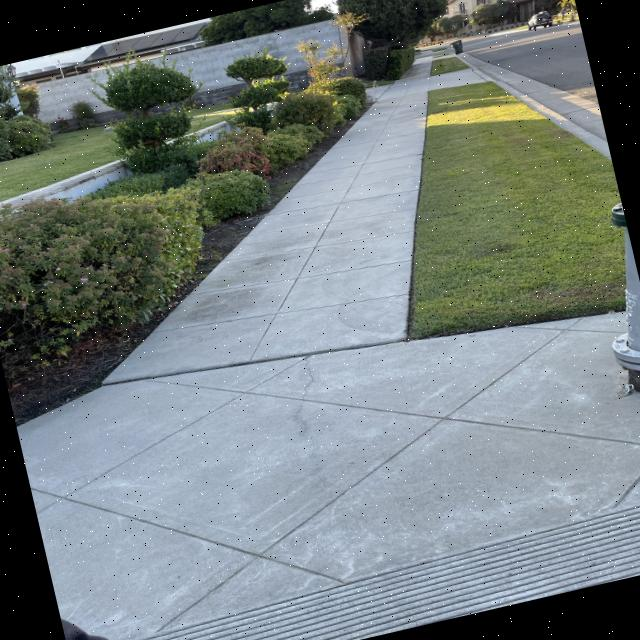curb: (528, 72, 608, 162)
road: (484, 22, 590, 106)
walkway: (22, 340, 426, 548), (132, 294, 419, 464), (204, 235, 414, 374), (253, 196, 414, 306), (304, 152, 421, 226), (340, 115, 426, 172), (371, 78, 430, 127)
walkway-edge: (359, 147, 474, 353), (398, 82, 456, 168)
